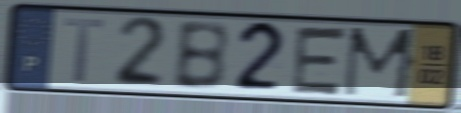2: (229, 19, 293, 96), (115, 14, 170, 90)
B: (170, 19, 232, 93)
E: (287, 24, 352, 98)
M: (338, 24, 420, 102)
T: (61, 14, 108, 85)
